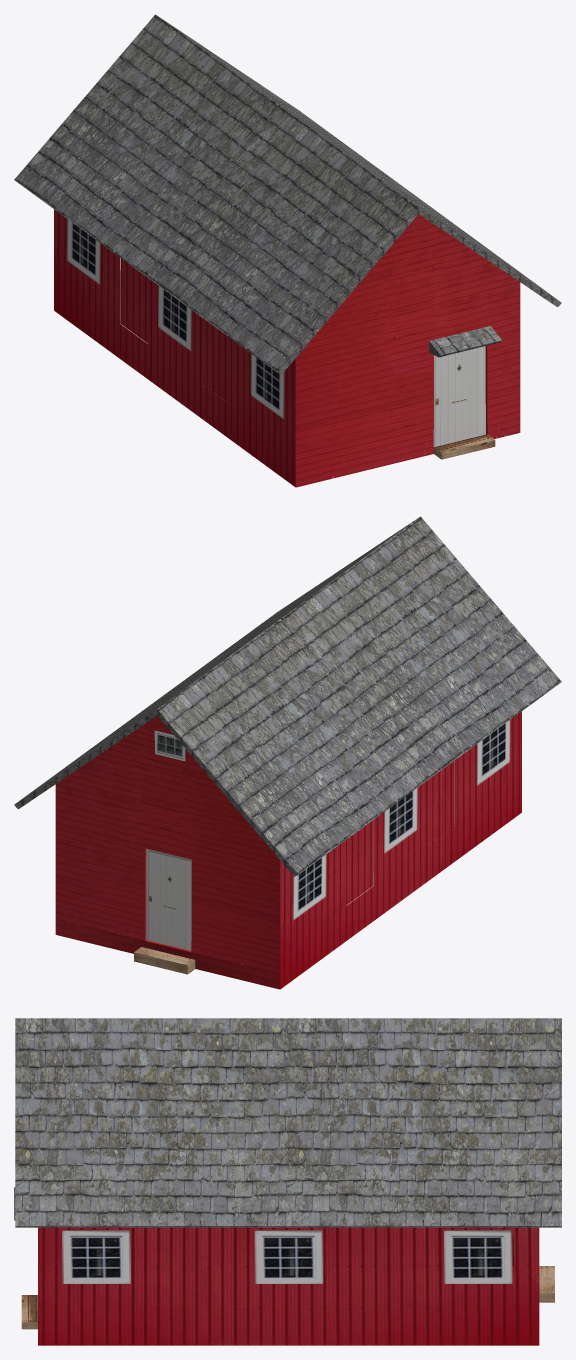
The model's file is Home.FBX.
The picture shows the model from 3 angles, top to bottom: view 1: azimuth 30°, elevation 25°; view 2: azimuth 150°, elevation 25°; view 3: azimuth 270°, elevation 25°; orthographic projection. The views are drawn at different scales.
Visible parts, largest first — view 1: home; view 2: home; view 3: home.
Part boxes in pixels (bbox=[...]): home: bbox=[14, 14, 561, 487]; home: bbox=[14, 516, 561, 989]; home: bbox=[14, 1018, 561, 1345].
Bounding box in the file's own units: 545 × 478 × 877.
Materials: 2 (2 with a texture image).
